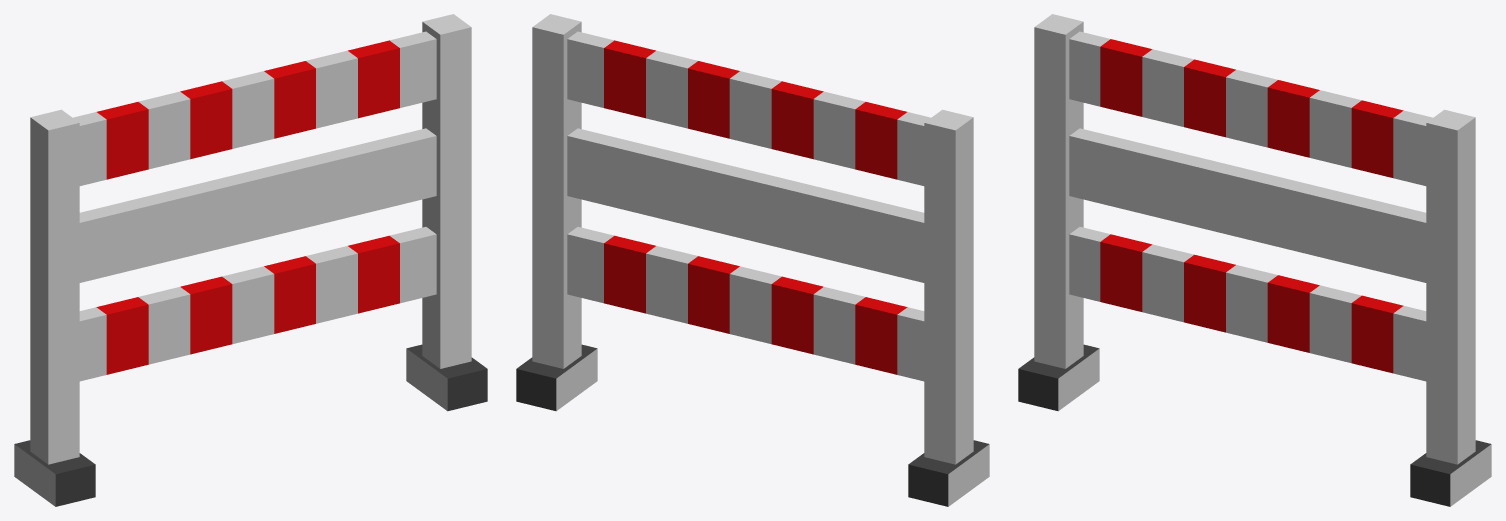
Rendered from ObstacleDown.fbx.
3 views of the same model, side by side, from view 1: azimuth 30°, elevation 25°; view 2: azimuth 150°, elevation 25°; view 3: azimuth 330°, elevation 25° (orthographic).
Visible parts, largest first — view 1: Cube.008, Cube.010, Cube.009, Cube.005, Cube.012, Cube.011, Cube.013; view 2: Cube.008, Cube.010, Cube.009, Cube.005, Cube.012, Cube.011, Cube.013; view 3: Cube.008, Cube.010, Cube.009, Cube.012, Cube.005, Cube.013, Cube.011.
Boxes of the visible parts, bbox=[...] form: Cube.008: bbox=[73, 31, 436, 185]; Cube.010: bbox=[79, 227, 436, 381]; Cube.009: bbox=[79, 128, 436, 282]; Cube.005: bbox=[30, 109, 79, 464]; Cube.012: bbox=[422, 14, 471, 368]; Cube.011: bbox=[14, 440, 95, 506]; Cube.013: bbox=[406, 344, 487, 411]; Cube.008: bbox=[567, 31, 930, 185]; Cube.010: bbox=[567, 227, 924, 381]; Cube.009: bbox=[567, 128, 924, 282]; Cube.005: bbox=[924, 109, 973, 464]; Cube.012: bbox=[532, 14, 581, 368]; Cube.011: bbox=[908, 440, 989, 506]; Cube.013: bbox=[516, 344, 597, 411]; Cube.008: bbox=[1069, 31, 1432, 185]; Cube.010: bbox=[1069, 227, 1426, 381]; Cube.009: bbox=[1069, 128, 1426, 282]; Cube.012: bbox=[1426, 109, 1475, 464]; Cube.005: bbox=[1034, 14, 1083, 368]; Cube.013: bbox=[1410, 440, 1491, 506]; Cube.011: bbox=[1018, 344, 1099, 411].
Bounding box in the file's own units: 132 × 107 × 21.92.
